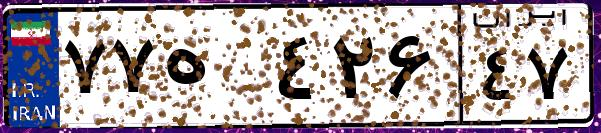2: (330, 28, 385, 110)
4: (270, 28, 330, 110), (475, 38, 525, 113)
6: (385, 28, 445, 110)
7: (57, 26, 110, 100), (525, 38, 570, 115), (110, 28, 158, 98)
ه: (158, 20, 270, 120)
